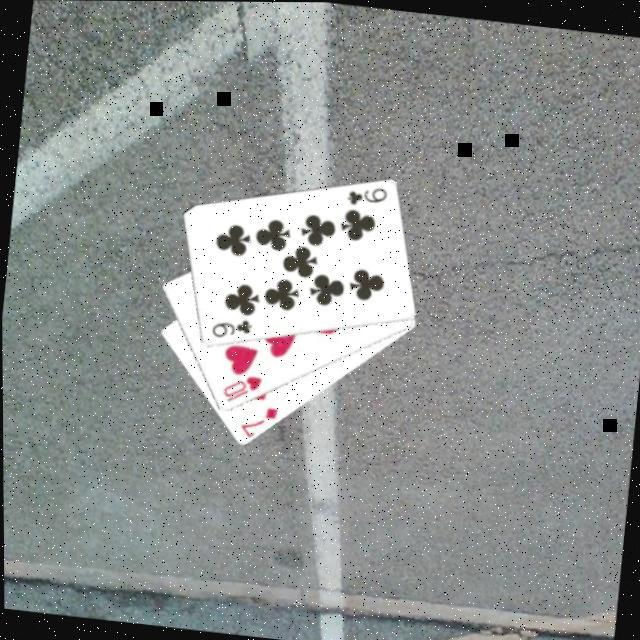10H: (218, 370, 266, 410)
7D: (235, 402, 281, 444)
9C: (343, 180, 390, 212), (207, 314, 254, 344)
